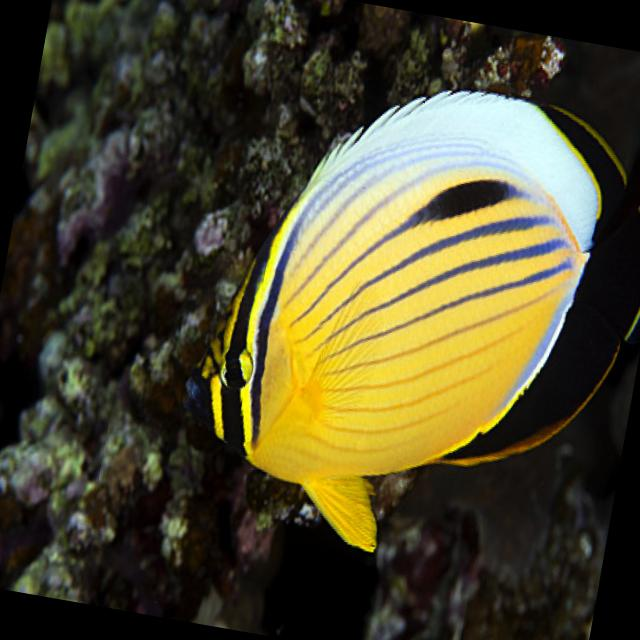ButterflyFish: (167, 43, 640, 588)
